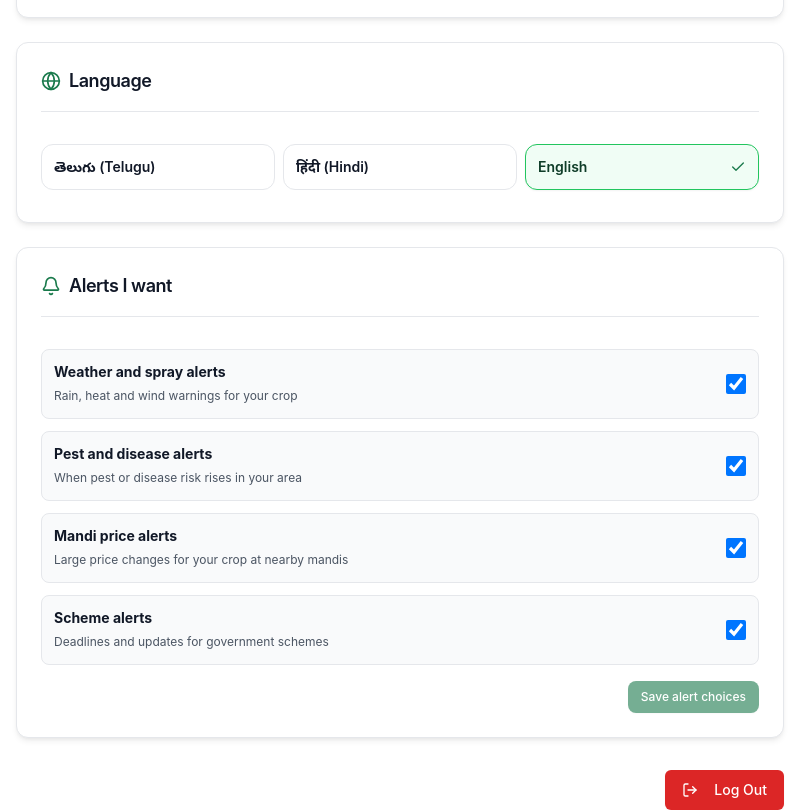
Test case: ProfilePage › saves the alert switches with the rest of the preferences unchanged
(page scrolled)
Check: the button "Save alert choices" is disabled, box 628,681 -> 759,713
What coordinates should you click on to do the following:
click the checkbox labelled "Mandi price alerts"
I would click on:
 (736, 548)
Its box is 726,538 -> 746,558.
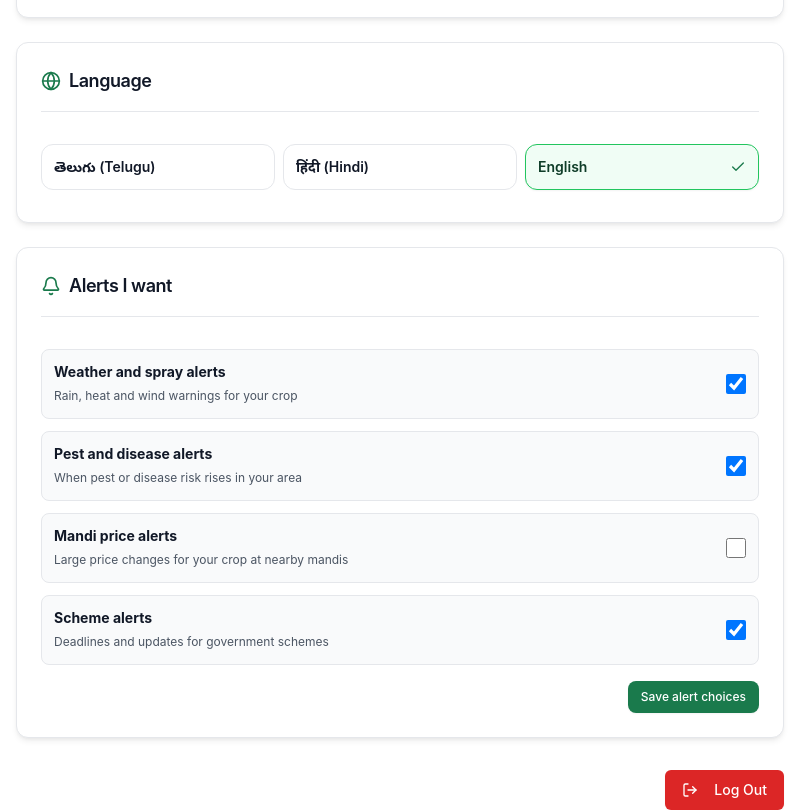
What coordinates should you click on to do the following:
click the button "Save alert choices"
I would click on:
 (693, 697)
Its box is 628,681 -> 759,713.
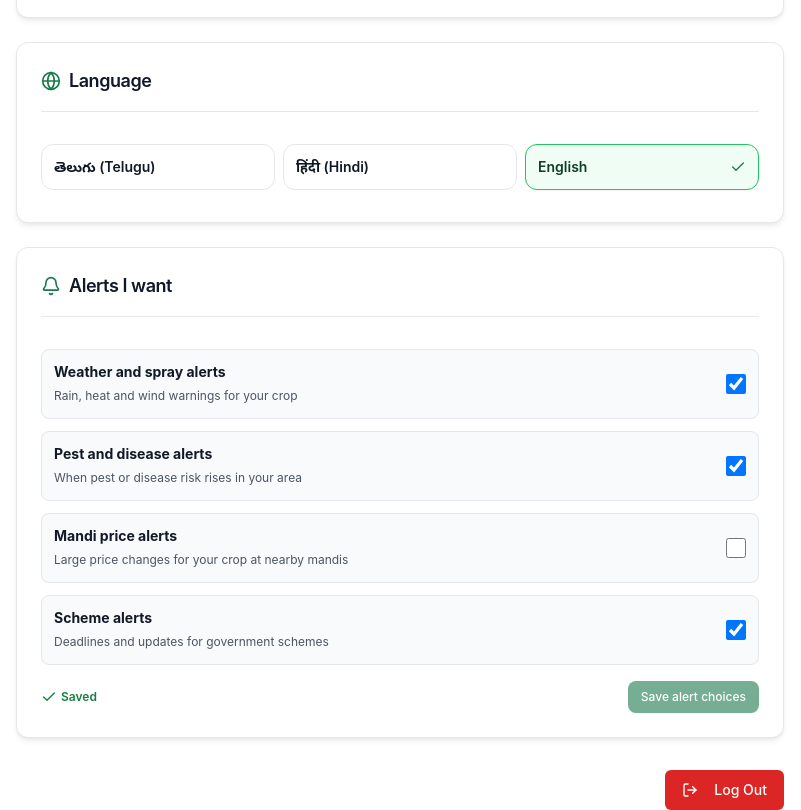
Check: the text "Saved" is shown, box 41,689 -> 97,705
